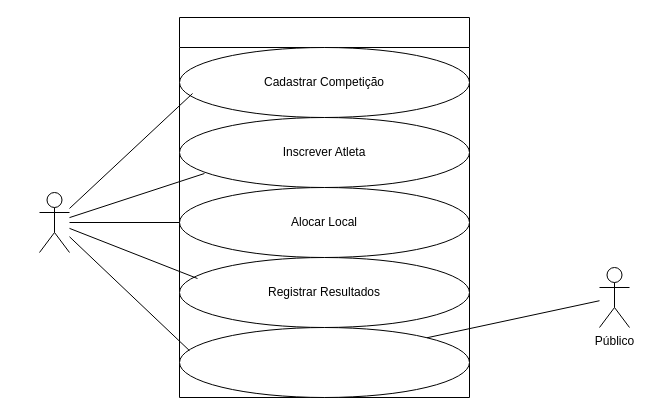
The diagram is 651 pixels wide and 415 high, and some of its shapes have lost their labels. The shapes that lost their labels are listed below. From the top down, each one's box as (x1, y1, x2, y2) in pixels, then its label:
(38, 192, 70, 252): Administrador
(178, 16, 470, 398): Sistema de Gestão das Olimpíadas (SGO)
(178, 326, 470, 398): Gerar Relatório de Medalhas
